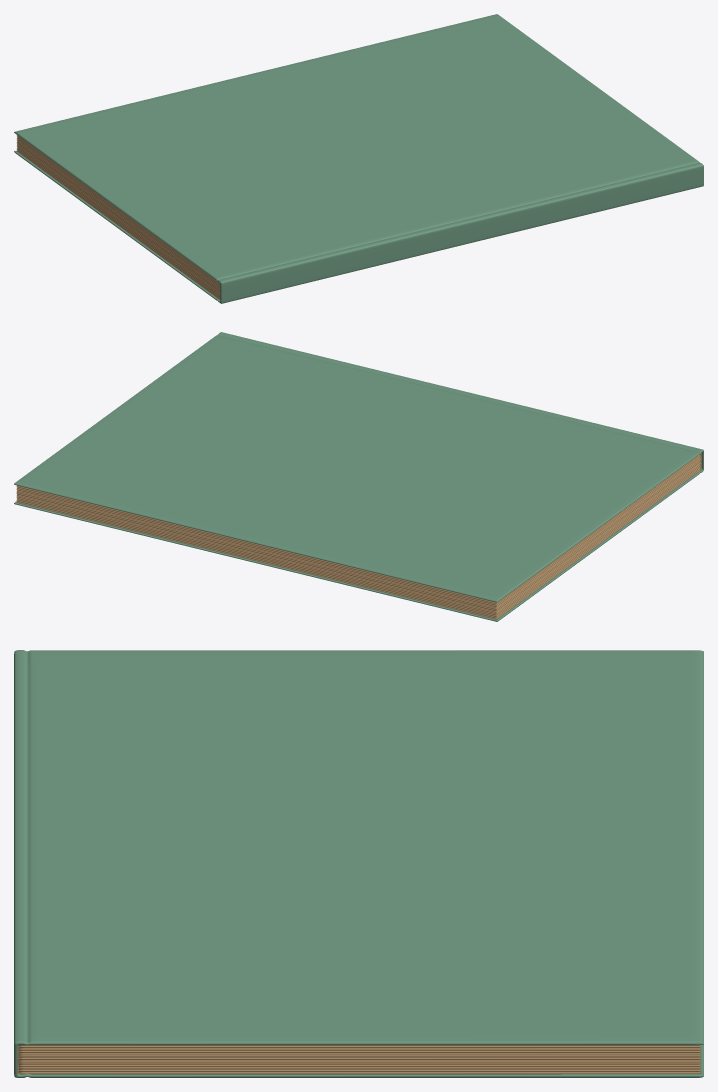
The model's file is misc_notebook_a03.glb.
3 renders of one model, top to bottom at view 1: azimuth 30°, elevation 25°; view 2: azimuth 150°, elevation 25°; view 3: azimuth 270°, elevation 25°, orthographic. The views are drawn at different scales.
Bounding box in the file's own units: 0.2289 × 0.01 × 0.17.
